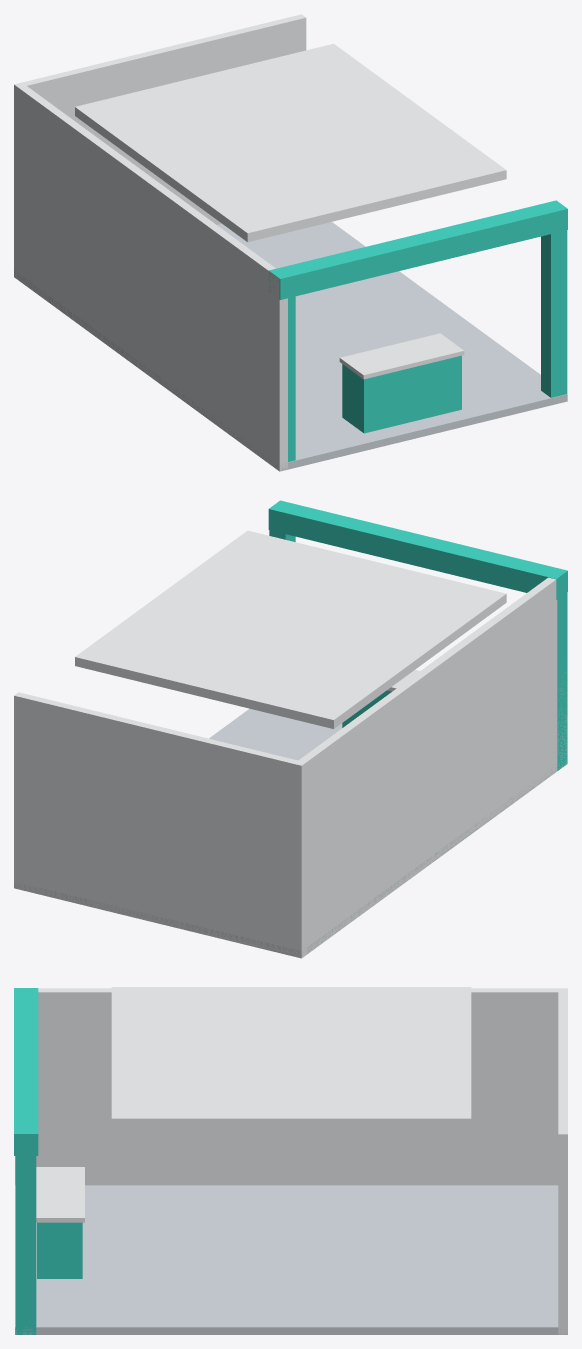
3 views of the same model, one above another, from view 1: azimuth 30°, elevation 25°; view 2: azimuth 150°, elevation 25°; view 3: azimuth 270°, elevation 25° (orthographic). The views are drawn at different scales.
Parts seen in each view (by area): view 1: Exhibition Booth Concept; view 2: Exhibition Booth Concept; view 3: Exhibition Booth Concept.
Part boxes in pixels (x1,y1,x2,y2): Exhibition Booth Concept: (14, 14, 567, 471); Exhibition Booth Concept: (14, 500, 567, 958); Exhibition Booth Concept: (14, 987, 567, 1334).
Bounding box in the file's own units: 5 × 3.34 × 8.01.
